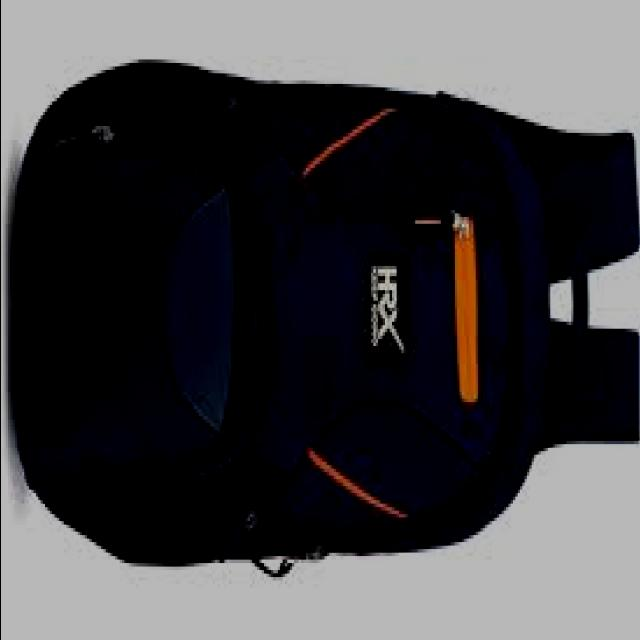backpack: (13, 57, 640, 578)
